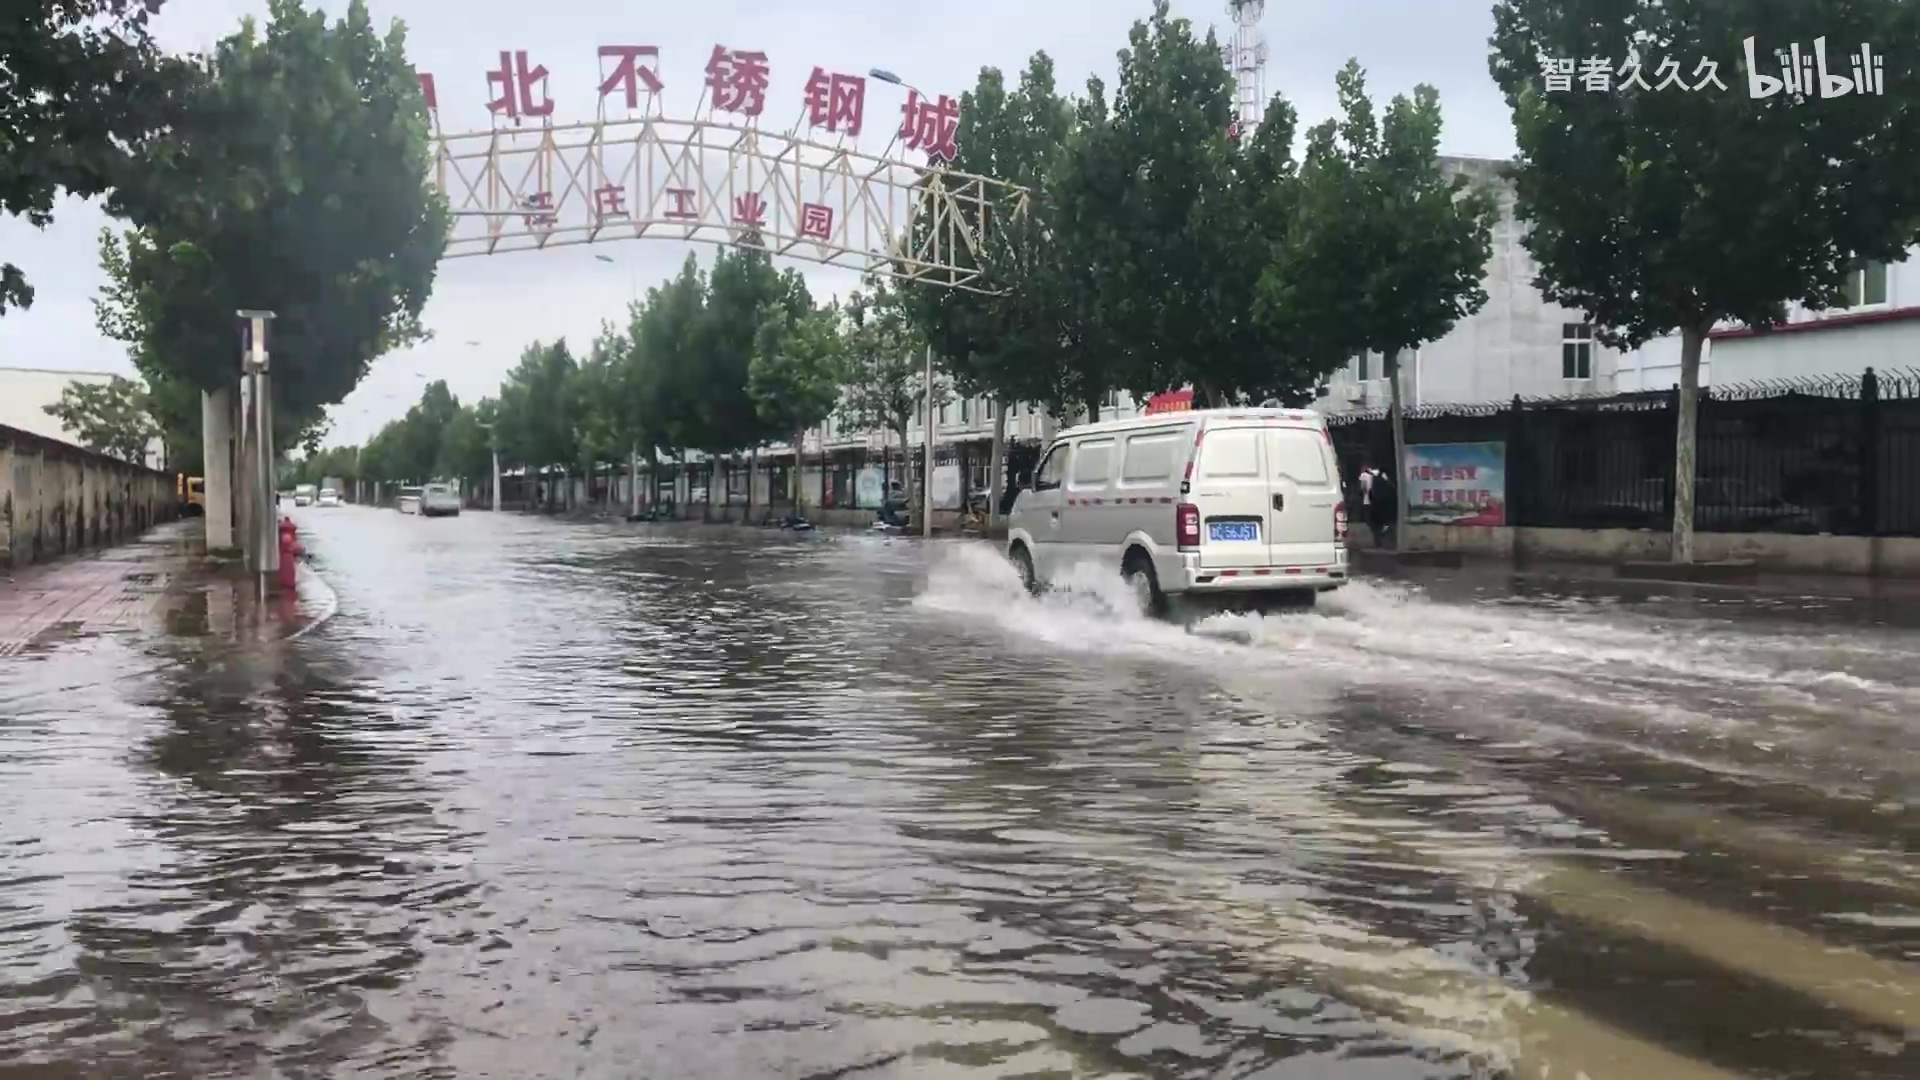puddle: (1, 549, 1920, 1080)
